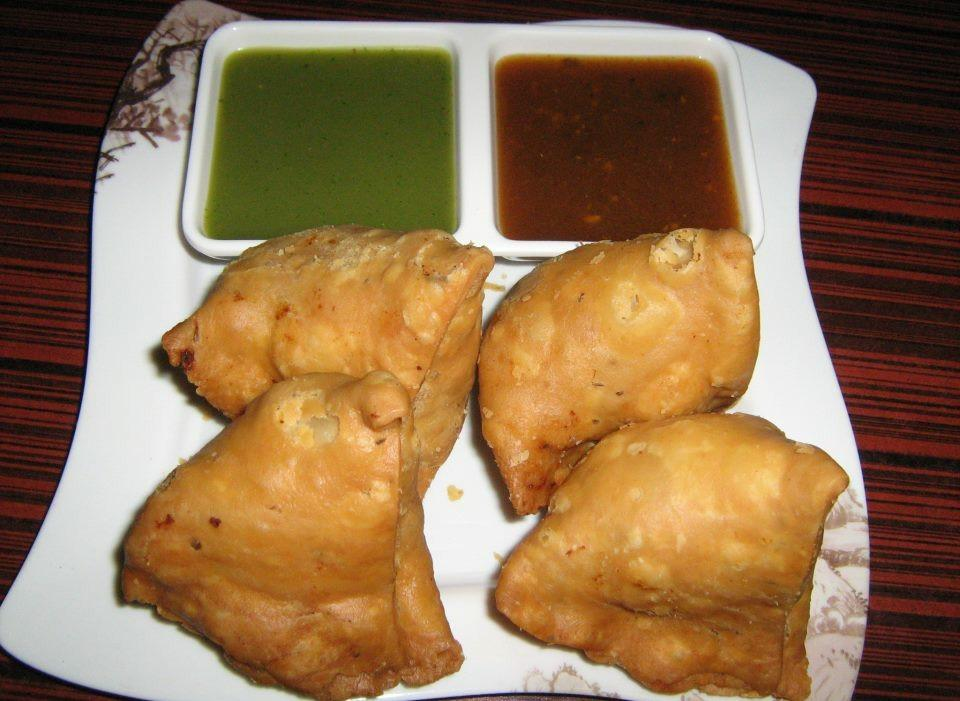Samosa: (116, 371, 463, 701), (489, 416, 850, 701), (152, 224, 492, 496), (475, 224, 761, 518)
